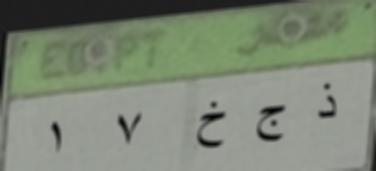1: (46, 116, 70, 162)
7: (114, 108, 145, 155)
jeem: (254, 100, 288, 149)
khaa: (196, 98, 226, 157)
zaal: (313, 79, 340, 128)
